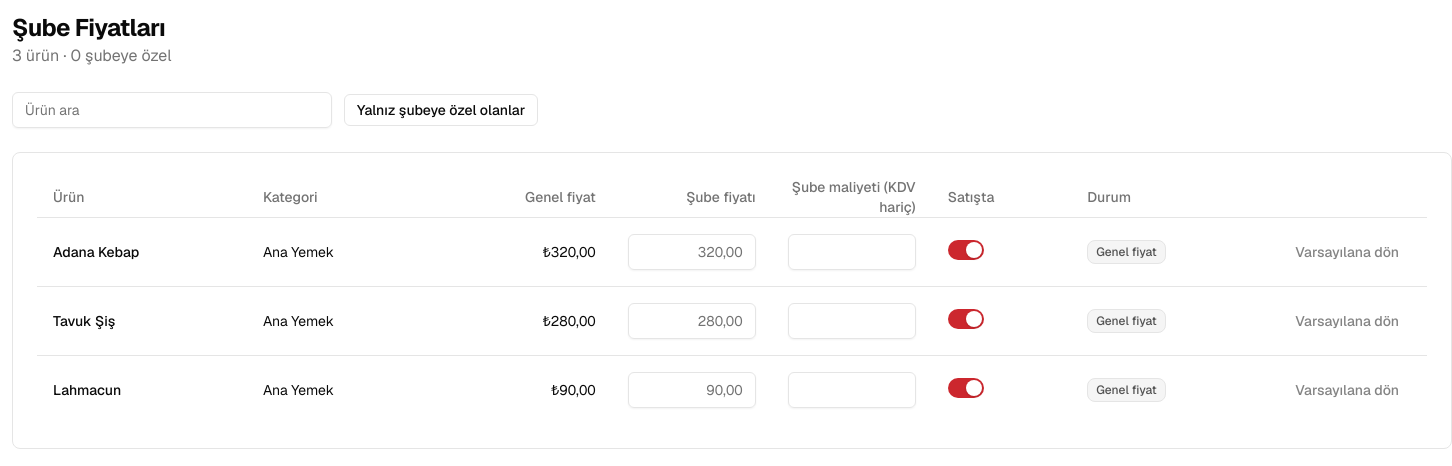
Test: BranchPricing › commits a typed price on blur: one PUT carrying the lira text as kuruş AND the current availability
Expected: the text "Adana Kebap" is shown, [53,242,139,262]
Expected: the row with test id "branch-pricing-row-p1" is shown, [37,218,1427,286]
Step 1. Type "310,50" into the field named "şube fiyatı" → (692, 252), box [628,234,756,270]
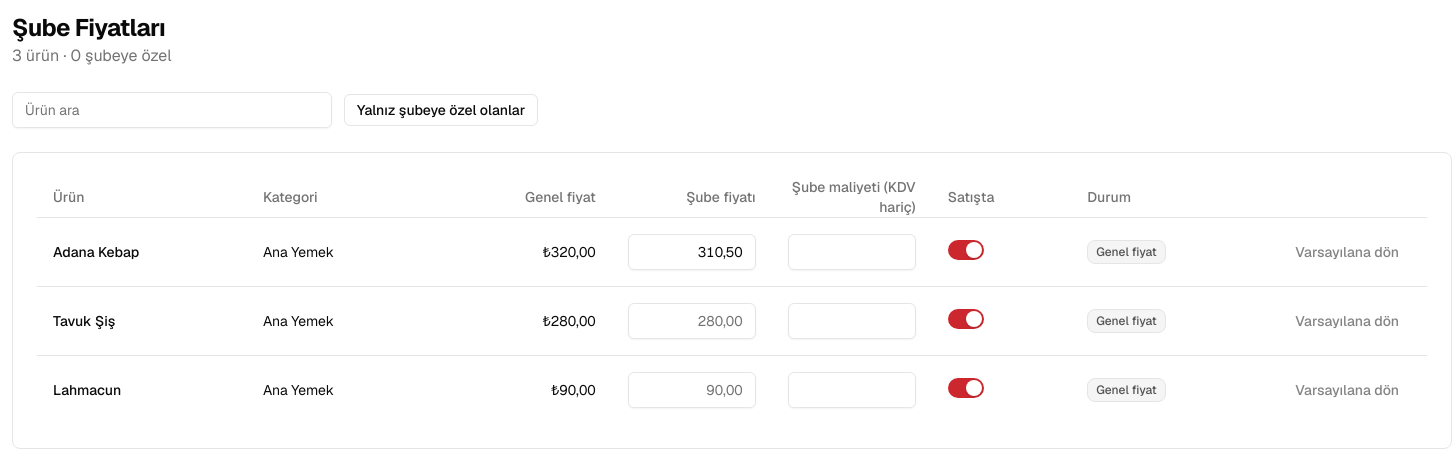
Step 2. Leave the field named "şube fiyatı", box [628,234,756,270]
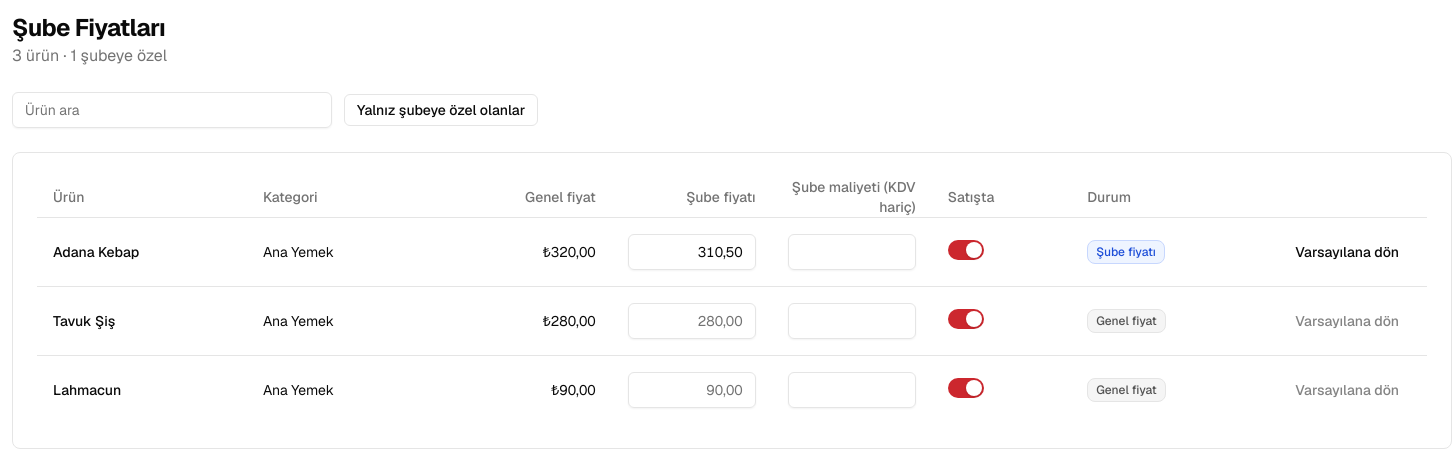
Now the text "Şube fiyatı" is shown, box [1087,240,1165,264]
